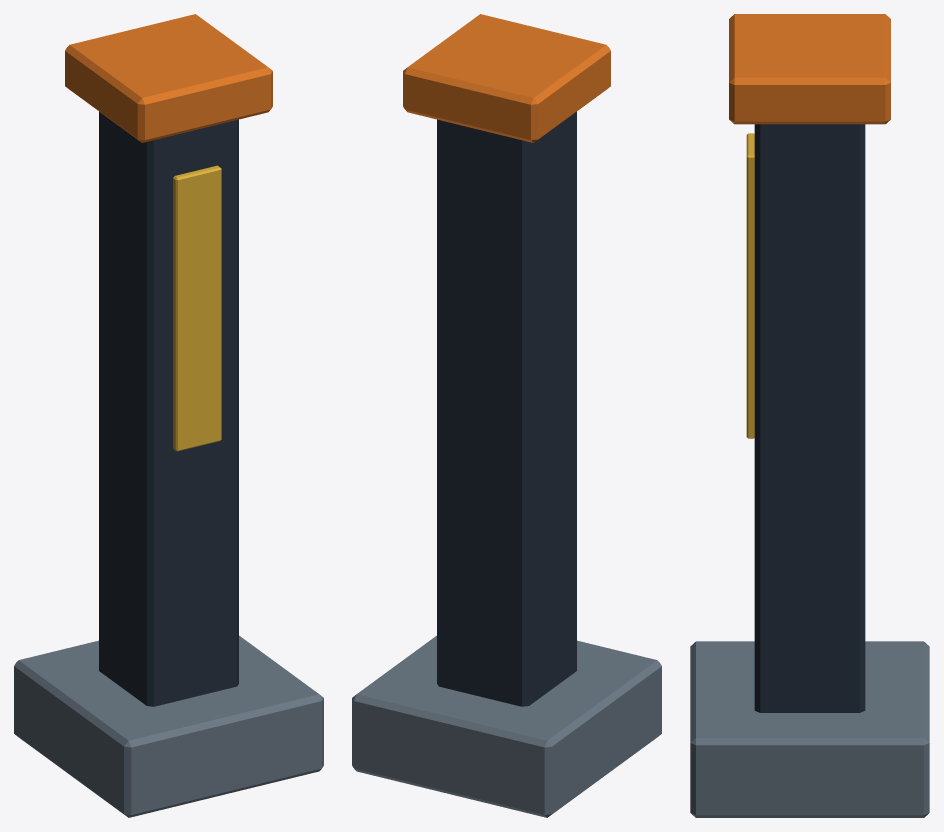
The model's file is pylon.glb.
The picture shows the model from 3 angles, left to right: view 1: azimuth 30°, elevation 25°; view 2: azimuth 150°, elevation 25°; view 3: azimuth 270°, elevation 25°; orthographic projection. The views are drawn at different scales.
Parts seen in each view (by area): view 1: pylon_Body; view 2: pylon_Body; view 3: pylon_Body.
Part boxes in pixels (<box>): pylon_Body: <box>14,14,323,817</box>; pylon_Body: <box>352,14,661,817</box>; pylon_Body: <box>690,14,929,817</box>.
Bounding box in the file's own units: 0.65 × 2.17 × 0.65.
